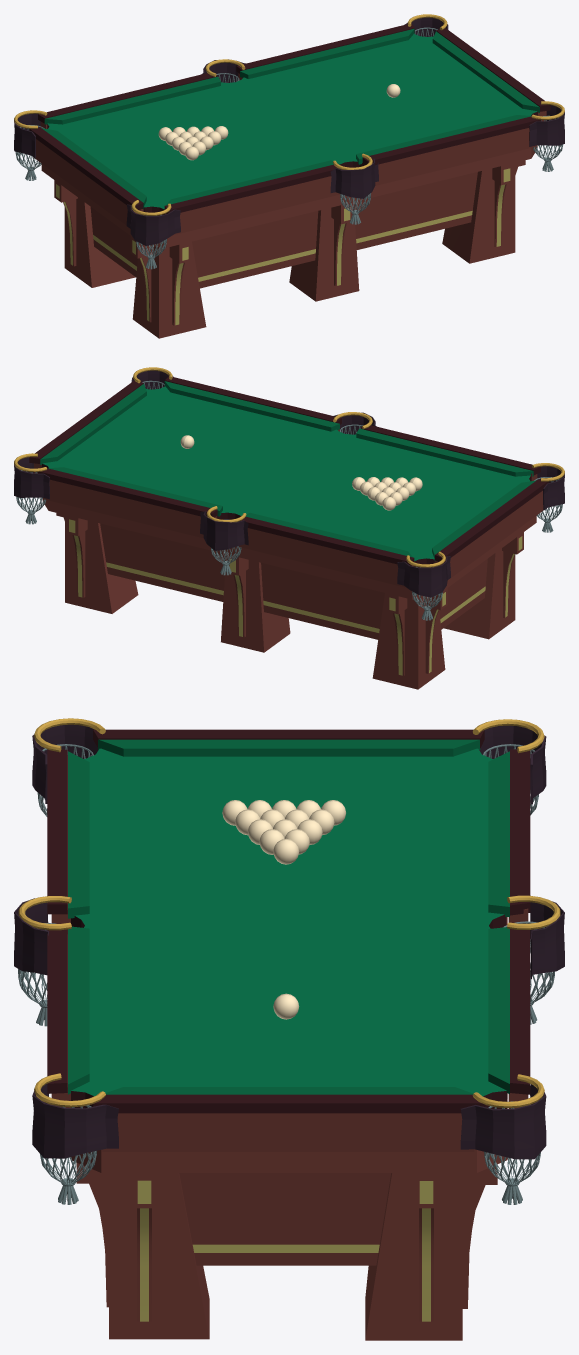
Rendered from obj_billiards_81fe61.glb.
3 renders of one model, top to bottom at view 1: azimuth 30°, elevation 25°; view 2: azimuth 150°, elevation 25°; view 3: azimuth 270°, elevation 25°, orthographic. The views are drawn at different scales.
Visible parts, largest first — view 1: obj_billiards_81fe61; view 2: obj_billiards_81fe61; view 3: obj_billiards_81fe61.
Boxes of the visible parts, box(x1,y1,x2,y2) form: obj_billiards_81fe61: box(14, 14, 564, 338); obj_billiards_81fe61: box(14, 367, 564, 689); obj_billiards_81fe61: box(14, 718, 564, 1340).
Size of the model in its own units: 2.5 by 0.8432 by 1.5.
